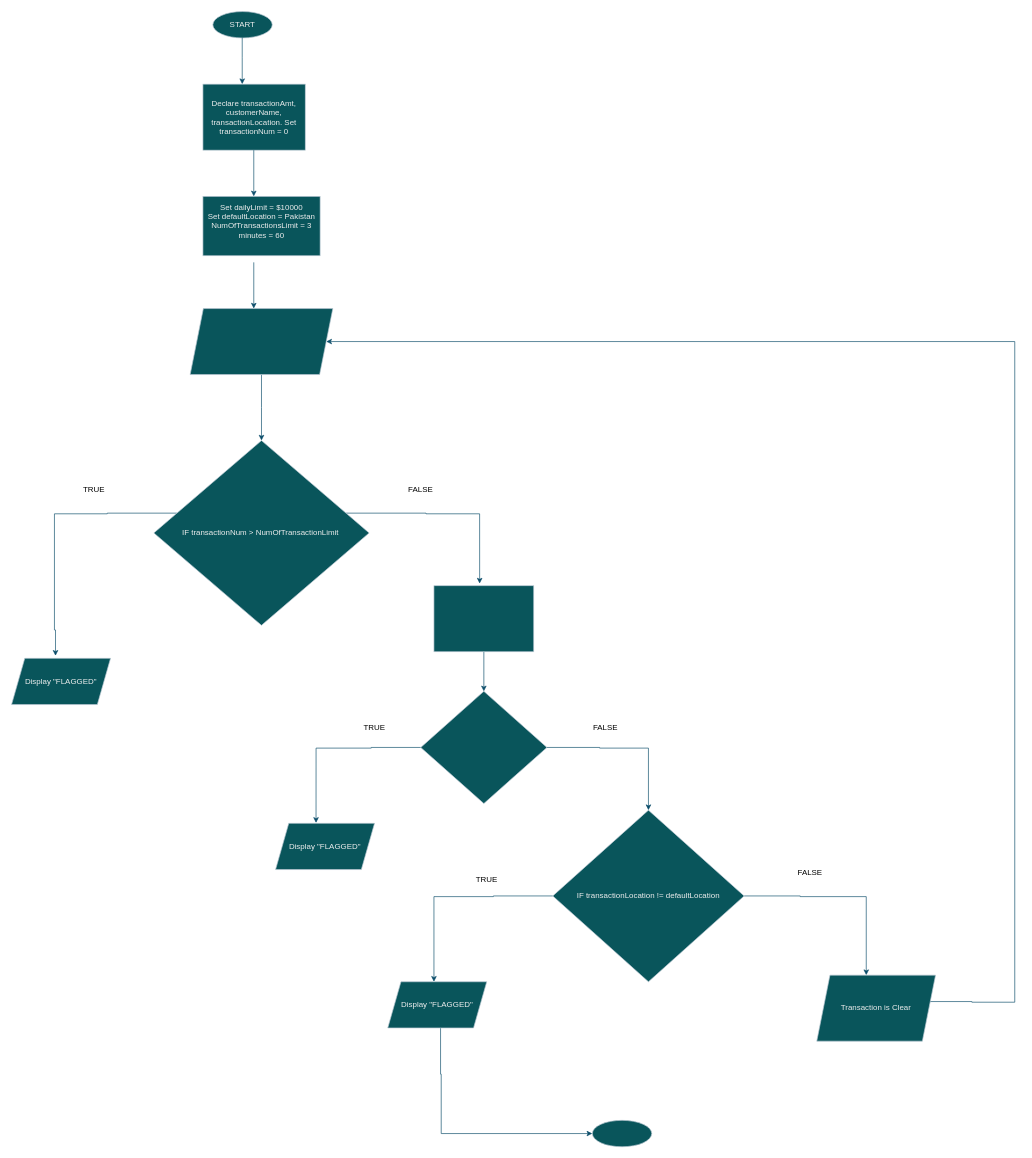
This 1032x1158 diagram has some shape labels left out. The shapes that lost their labels are listed below. From the top down, each one's centre as x and y in pixels, then its label:
At (x=261, y=341): "Read Input of transactionAmt, customerName,transactionLocation".
At (x=483, y=618): "transactionNum++".
At (x=483, y=747): "IF transactionAmt > dailyLimit".
At (x=622, y=1133): "END".
